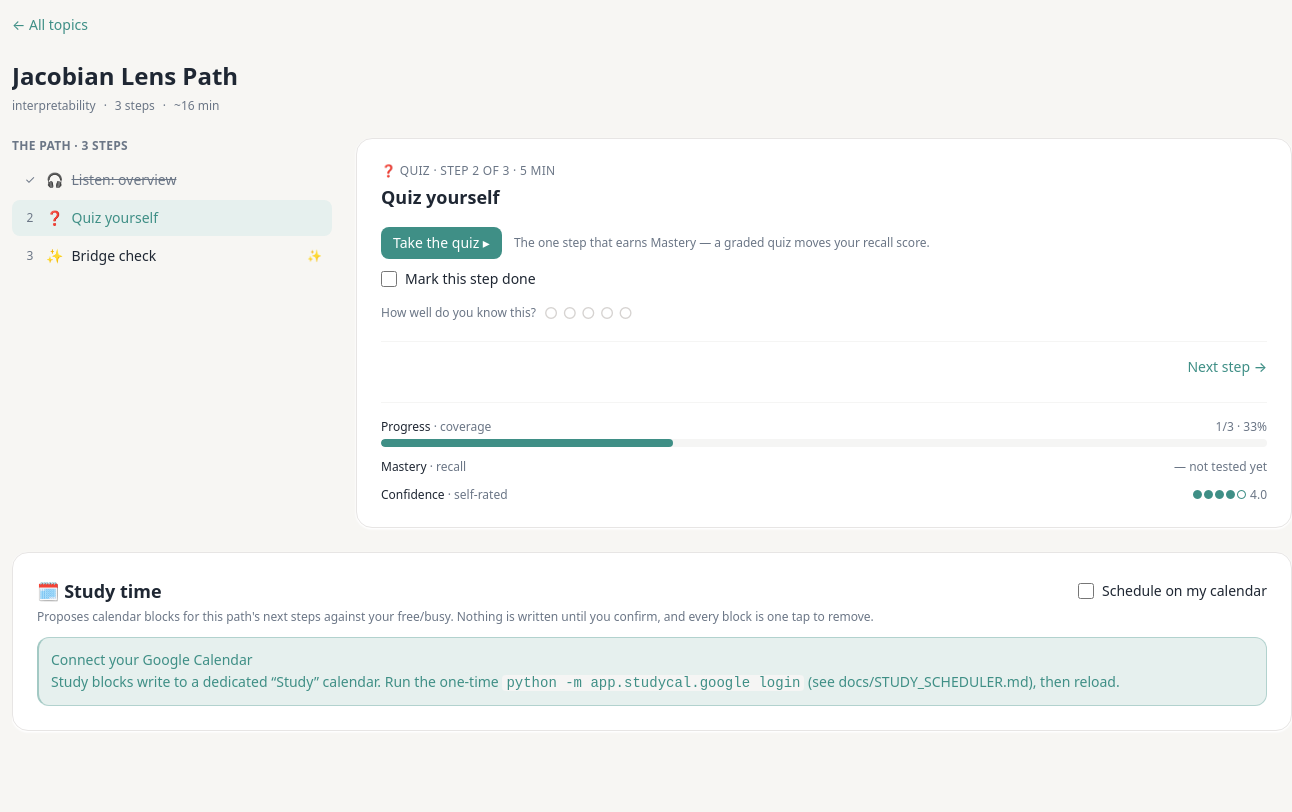
Test case: PathPlayer — outline + detail (M8 #15) › marks a step done via api.completeStep and reflects the refreshed coverage
Expected: the heading "Quiz yourself" is shown, [381,185,500,209]
Click the checkbox labelled "Mark this step done".
click(389, 279)  # box [381,271,397,287]
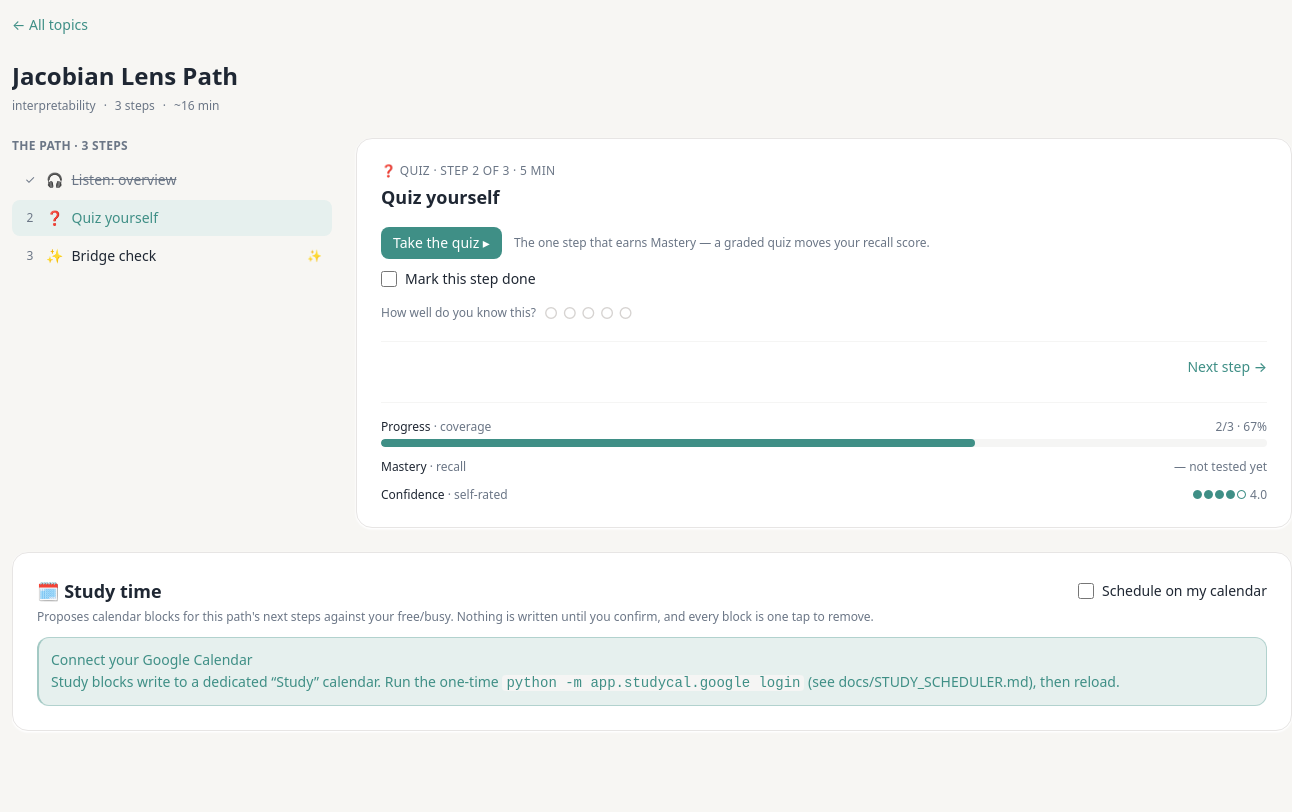
Expected: the text "2/3 · 67%" is shown, [1216,419,1267,435]
